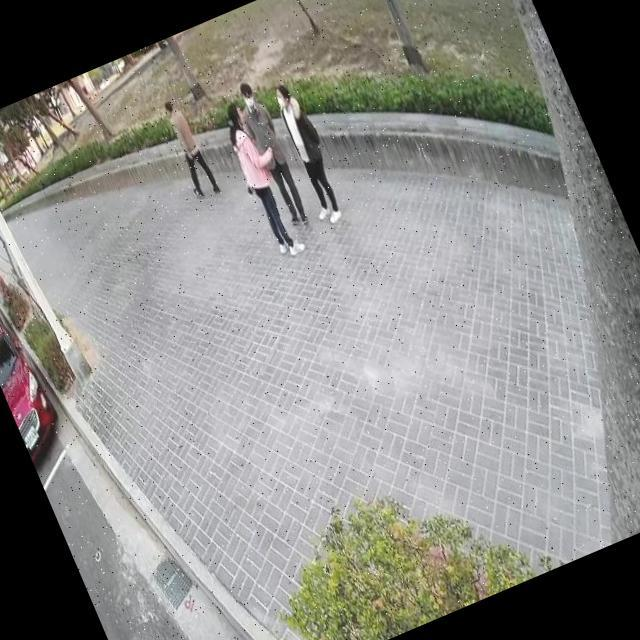person: (210, 88, 316, 266), (262, 72, 356, 231), (226, 72, 316, 230), (155, 90, 226, 204)
